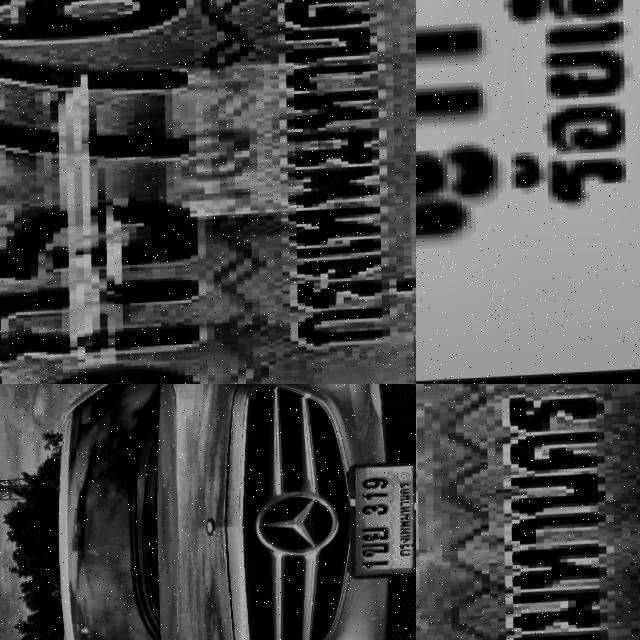license-plate: (0, 0, 416, 384), (416, 0, 640, 384), (416, 384, 640, 640), (347, 465, 416, 584)
